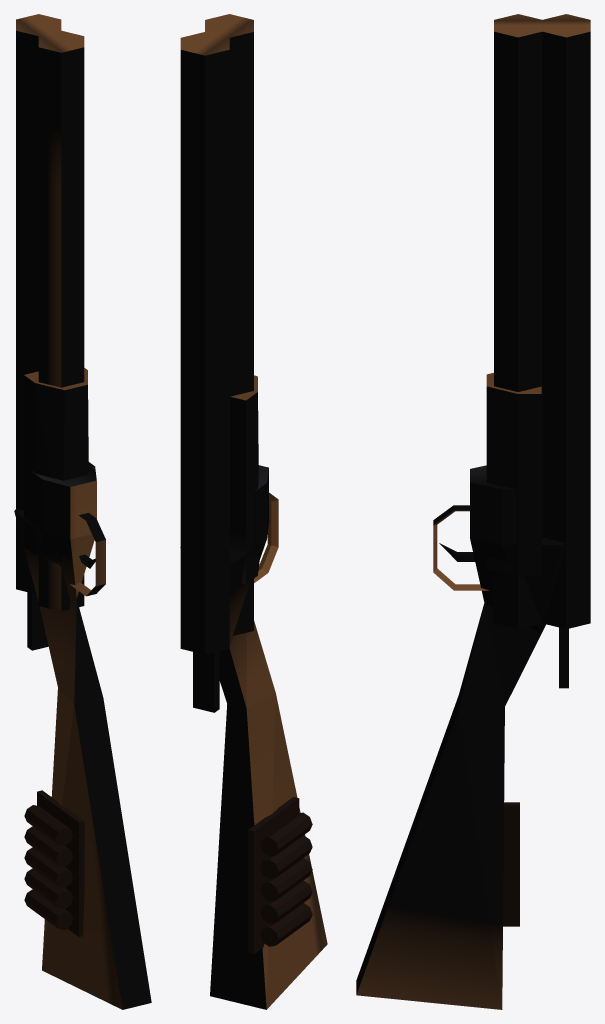
File: Win1894__Mount_ScopeBase__ShellHolder_Butt.fbx
The picture shows the model from 3 angles, left to right: view 1: azimuth 30°, elevation 25°; view 2: azimuth 150°, elevation 25°; view 3: azimuth 270°, elevation 25°; orthographic projection. The views are drawn at different scales.
Visible parts, largest first — view 1: asset_Win1894.001; view 2: asset_Win1894.001; view 3: asset_Win1894.001.
Part boxes in pixels (x1,y1,x2,y2): asset_Win1894.001: [14, 14, 151, 1009]; asset_Win1894.001: [180, 14, 327, 1009]; asset_Win1894.001: [356, 14, 590, 1009].
Size of the model in its own units: 0.0447 by 0.576 by 0.1259.
